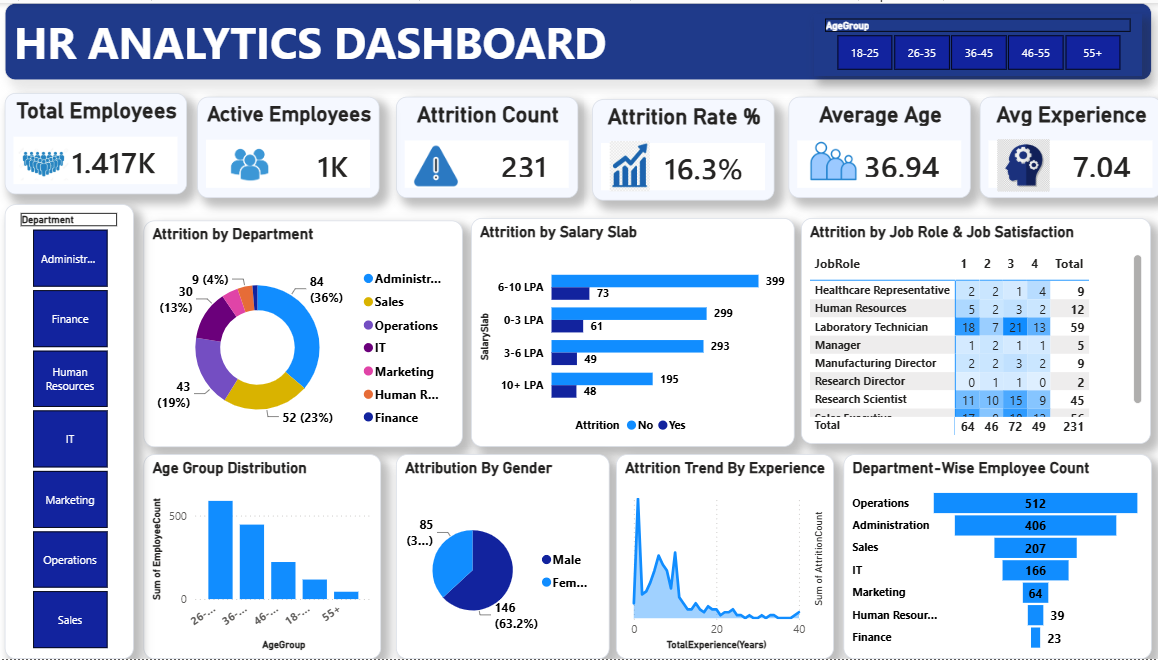

The page's visual inventory and layout, read from the dashboard file:
{"tool":"powerbi","page":{"name":"Page 1","canvas":[1280,720],"ordinal":0},"visuals":[{"type":"textbox","box":[10,0,1259,85],"z":0},{"type":"cardVisual","title":"Total Employees","fields":{"Data":["CountNonNull(HR_Analytics-4.EmpID)"]},"box":[9.6,98.8,200.3,111.1],"z":1000},{"type":"cardVisual","title":"Attrition Count","fields":{"Data":["Sum(HR_Analytics-4.AttritionCount)"]},"box":[439.1,102.9,200.3,111.1],"z":2000},{"type":"cardVisual","title":"Attrition Rate %","fields":{"Data":["HR_Analytics-4.Attrition Rate %"]},"box":[654.5,105.7,200.3,111.1],"z":3000},{"type":"cardVisual","title":"Average Age","fields":{"Data":["Avg(HR_Analytics-4.Age)"]},"box":[870,102.9,200.3,111.1],"z":4000},{"type":"cardVisual","title":"Avg Experience","fields":{"Data":["Avg(HR_Analytics-4.YearsatCompany)"]},"box":[1079.9,102.9,200.3,111.1],"z":5000},{"type":"cardVisual","title":"Active Employees","fields":{"Data":["Sum(HR_Analytics-4.EmployeeCount)"]},"box":[220.9,102.9,200.3,111.1],"z":6000},{"type":"donutChart","title":"Attrition by Department","fields":{"Category":["HR_Analytics-4.Department"],"Y":["Sum(HR_Analytics-4.AttritionCount)"]},"box":[161.9,238.8,350,249],"z":7000},{"type":"clusteredBarChart","title":"Attrition by Salary Slab","fields":{"Category":["HR_Analytics-4.SalarySlab"],"Y":["CountNonNull(HR_Analytics-4.EmpID)"],"Series":["HR_Analytics-4.Attrition"]},"box":[521.4,236,355,251],"z":8000},{"type":"pivotTable","title":"Attrition by Job Role & Job Satisfaction","fields":{"Rows":["HR_Analytics-4.JobRole"],"Values":["Sum(HR_Analytics-4.AttritionCount)"],"Columns":["HR_Analytics-4.JobSatisfaction"]},"box":[883.7,236,384.2,248.4],"z":9000},{"type":"columnChart","title":"Age Group Distribution","fields":{"Category":["HR_Analytics-4.AgeGroup"],"Y":["Sum(HR_Analytics-4.EmployeeCount)"]},"box":[161.9,495.4,261,225],"z":10000},{"type":"pieChart","title":"Attribution By Gender","fields":{"Category":["HR_Analytics-4.Gender"],"Y":["Sum(HR_Analytics-4.AttritionCount)"]},"box":[439.1,495.4,234,225],"z":11000},{"type":"areaChart","title":"Attrition Trend By Experience","fields":{"Category":["HR_Analytics-4.TotalExperience(Years)"],"Y2":["Sum(HR_Analytics-4.AttritionCount)"]},"box":[680.6,495.4,239,225],"z":12000},{"type":"funnel","title":"Department-Wise Employee Count","fields":{"Category":["HR_Analytics-4.Department"],"Y":["CountNonNull(HR_Analytics-4.EmpID)"]},"box":[930.4,495.4,338,225],"z":13000},{"type":"slicer","fields":{"Values":["HR_Analytics-4.Department"]},"box":[9.6,220.9,141.3,499.5],"z":14000},{"type":"slicer","fields":{"Values":["HR_Analytics-4.AgeGroup"]},"box":[898,12,361,68],"z":15000},{"type":"image","box":[23.3,138.6,57.6,75.5],"z":16000},{"type":"image","box":[249.7,140,57.6,75.5],"z":17000},{"type":"image","box":[890.6,135.8,57.6,75.5],"z":18000},{"type":"image","box":[673.8,146.8,43.9,64.5],"z":19000},{"type":"image","box":[454.2,141.3,57.6,75.5],"z":20000},{"type":"image","box":[1099.1,145.5,57.6,65.9],"z":21000}]}

Visuals, with their boxes in screenshot pixels (x1, y1, x2, y2), scaled from the page's 1280x720 canvas onto the 1158x660 screenshot:
textbox: {"left": 9, "top": 0, "right": 1148, "bottom": 78}
"Total Employees" cardVisual: {"left": 9, "top": 91, "right": 190, "bottom": 192}
"Attrition Count" cardVisual: {"left": 397, "top": 94, "right": 578, "bottom": 196}
"Attrition Rate %" cardVisual: {"left": 592, "top": 97, "right": 773, "bottom": 199}
"Average Age" cardVisual: {"left": 787, "top": 94, "right": 968, "bottom": 196}
"Avg Experience" cardVisual: {"left": 977, "top": 94, "right": 1157, "bottom": 196}
"Active Employees" cardVisual: {"left": 200, "top": 94, "right": 381, "bottom": 196}
"Attrition by Department" donutChart: {"left": 146, "top": 219, "right": 463, "bottom": 447}
"Attrition by Salary Slab" clusteredBarChart: {"left": 472, "top": 216, "right": 793, "bottom": 446}
"Attrition by Job Role & Job Satisfaction" pivotTable: {"left": 799, "top": 216, "right": 1147, "bottom": 444}
"Age Group Distribution" columnChart: {"left": 146, "top": 454, "right": 383, "bottom": 659}
"Attribution By Gender" pieChart: {"left": 397, "top": 454, "right": 609, "bottom": 659}
"Attrition Trend By Experience" areaChart: {"left": 616, "top": 454, "right": 832, "bottom": 659}
"Department-Wise Employee Count" funnel: {"left": 842, "top": 454, "right": 1148, "bottom": 659}
slicer - HR_Analytics-4.Department: {"left": 9, "top": 202, "right": 137, "bottom": 659}
slicer - HR_Analytics-4.AgeGroup: {"left": 812, "top": 11, "right": 1139, "bottom": 73}
image: {"left": 21, "top": 127, "right": 73, "bottom": 196}
image: {"left": 226, "top": 128, "right": 278, "bottom": 198}
image: {"left": 806, "top": 124, "right": 858, "bottom": 194}
image: {"left": 610, "top": 135, "right": 649, "bottom": 194}
image: {"left": 411, "top": 130, "right": 463, "bottom": 199}
image: {"left": 994, "top": 133, "right": 1046, "bottom": 194}
